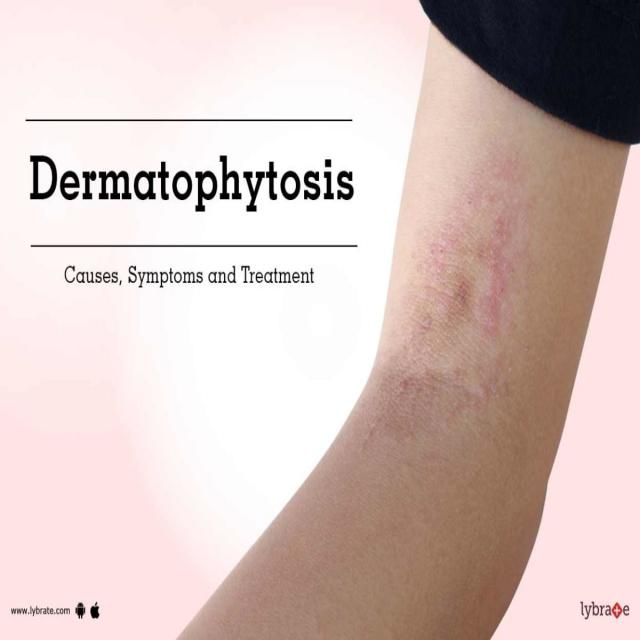eczema: (367, 172, 529, 458)
